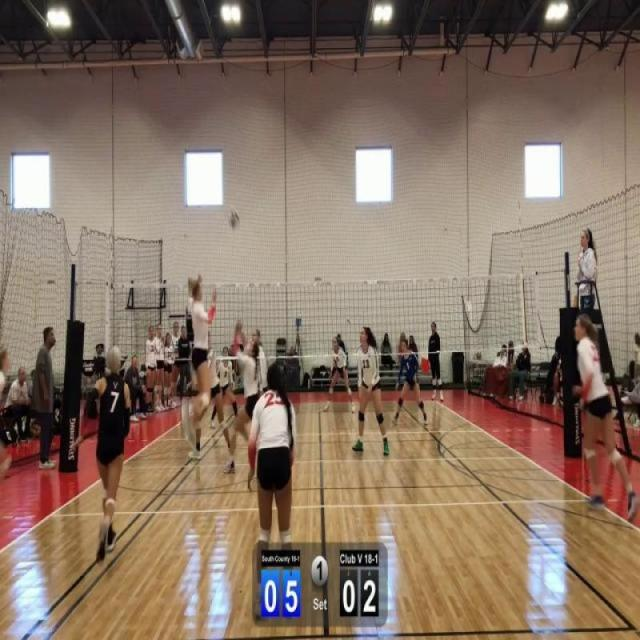volleyball: (226, 206, 242, 230)
